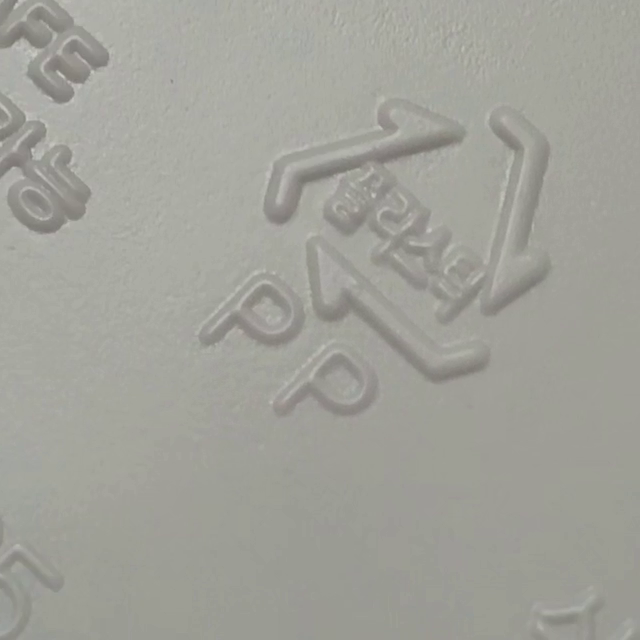Plastic: (261, 98, 553, 383)
